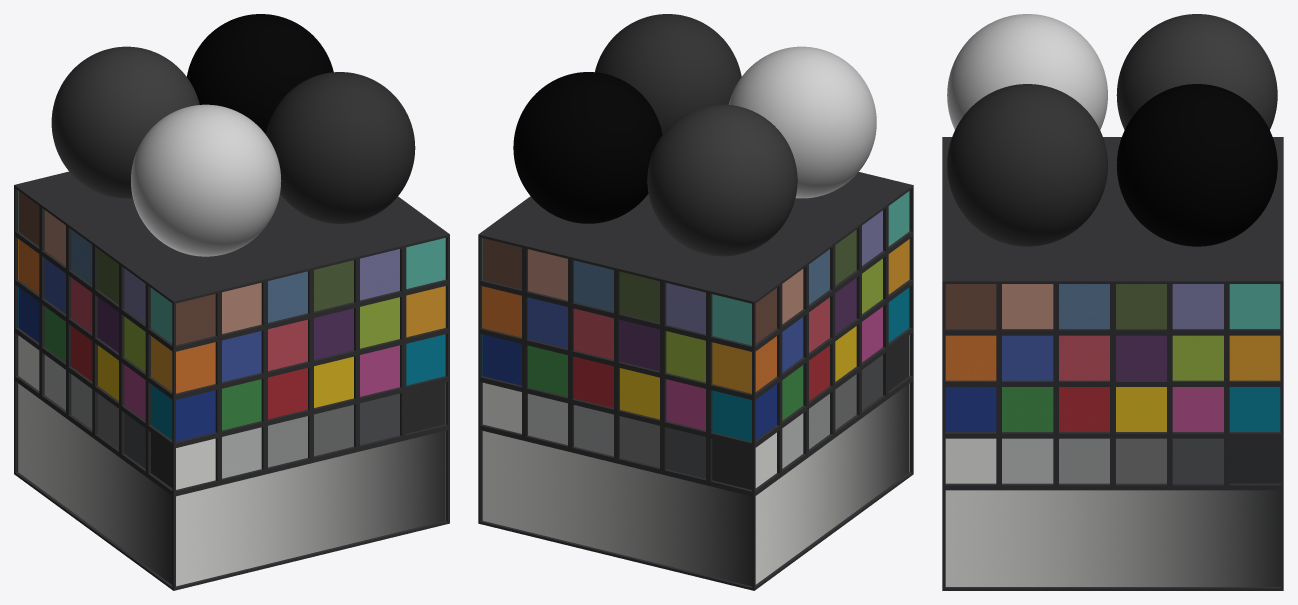
Rendered from color_checker.FBX.
The picture shows the model from 3 angles, left to right: view 1: azimuth 30°, elevation 25°; view 2: azimuth 150°, elevation 25°; view 3: azimuth 270°, elevation 25°; orthographic projection. The views are drawn at different scales.
Visible parts, largest first — view 1: SM_ColorCalibrator; view 2: SM_ColorCalibrator; view 3: SM_ColorCalibrator.
Boxes of the visible parts, x1,y1,x2,y2 form: SM_ColorCalibrator: (14,14,449,590); SM_ColorCalibrator: (478,14,913,590); SM_ColorCalibrator: (942,14,1283,590).
Size of what is drawn, in the model's own units: 60 by 60 by 89.66.
